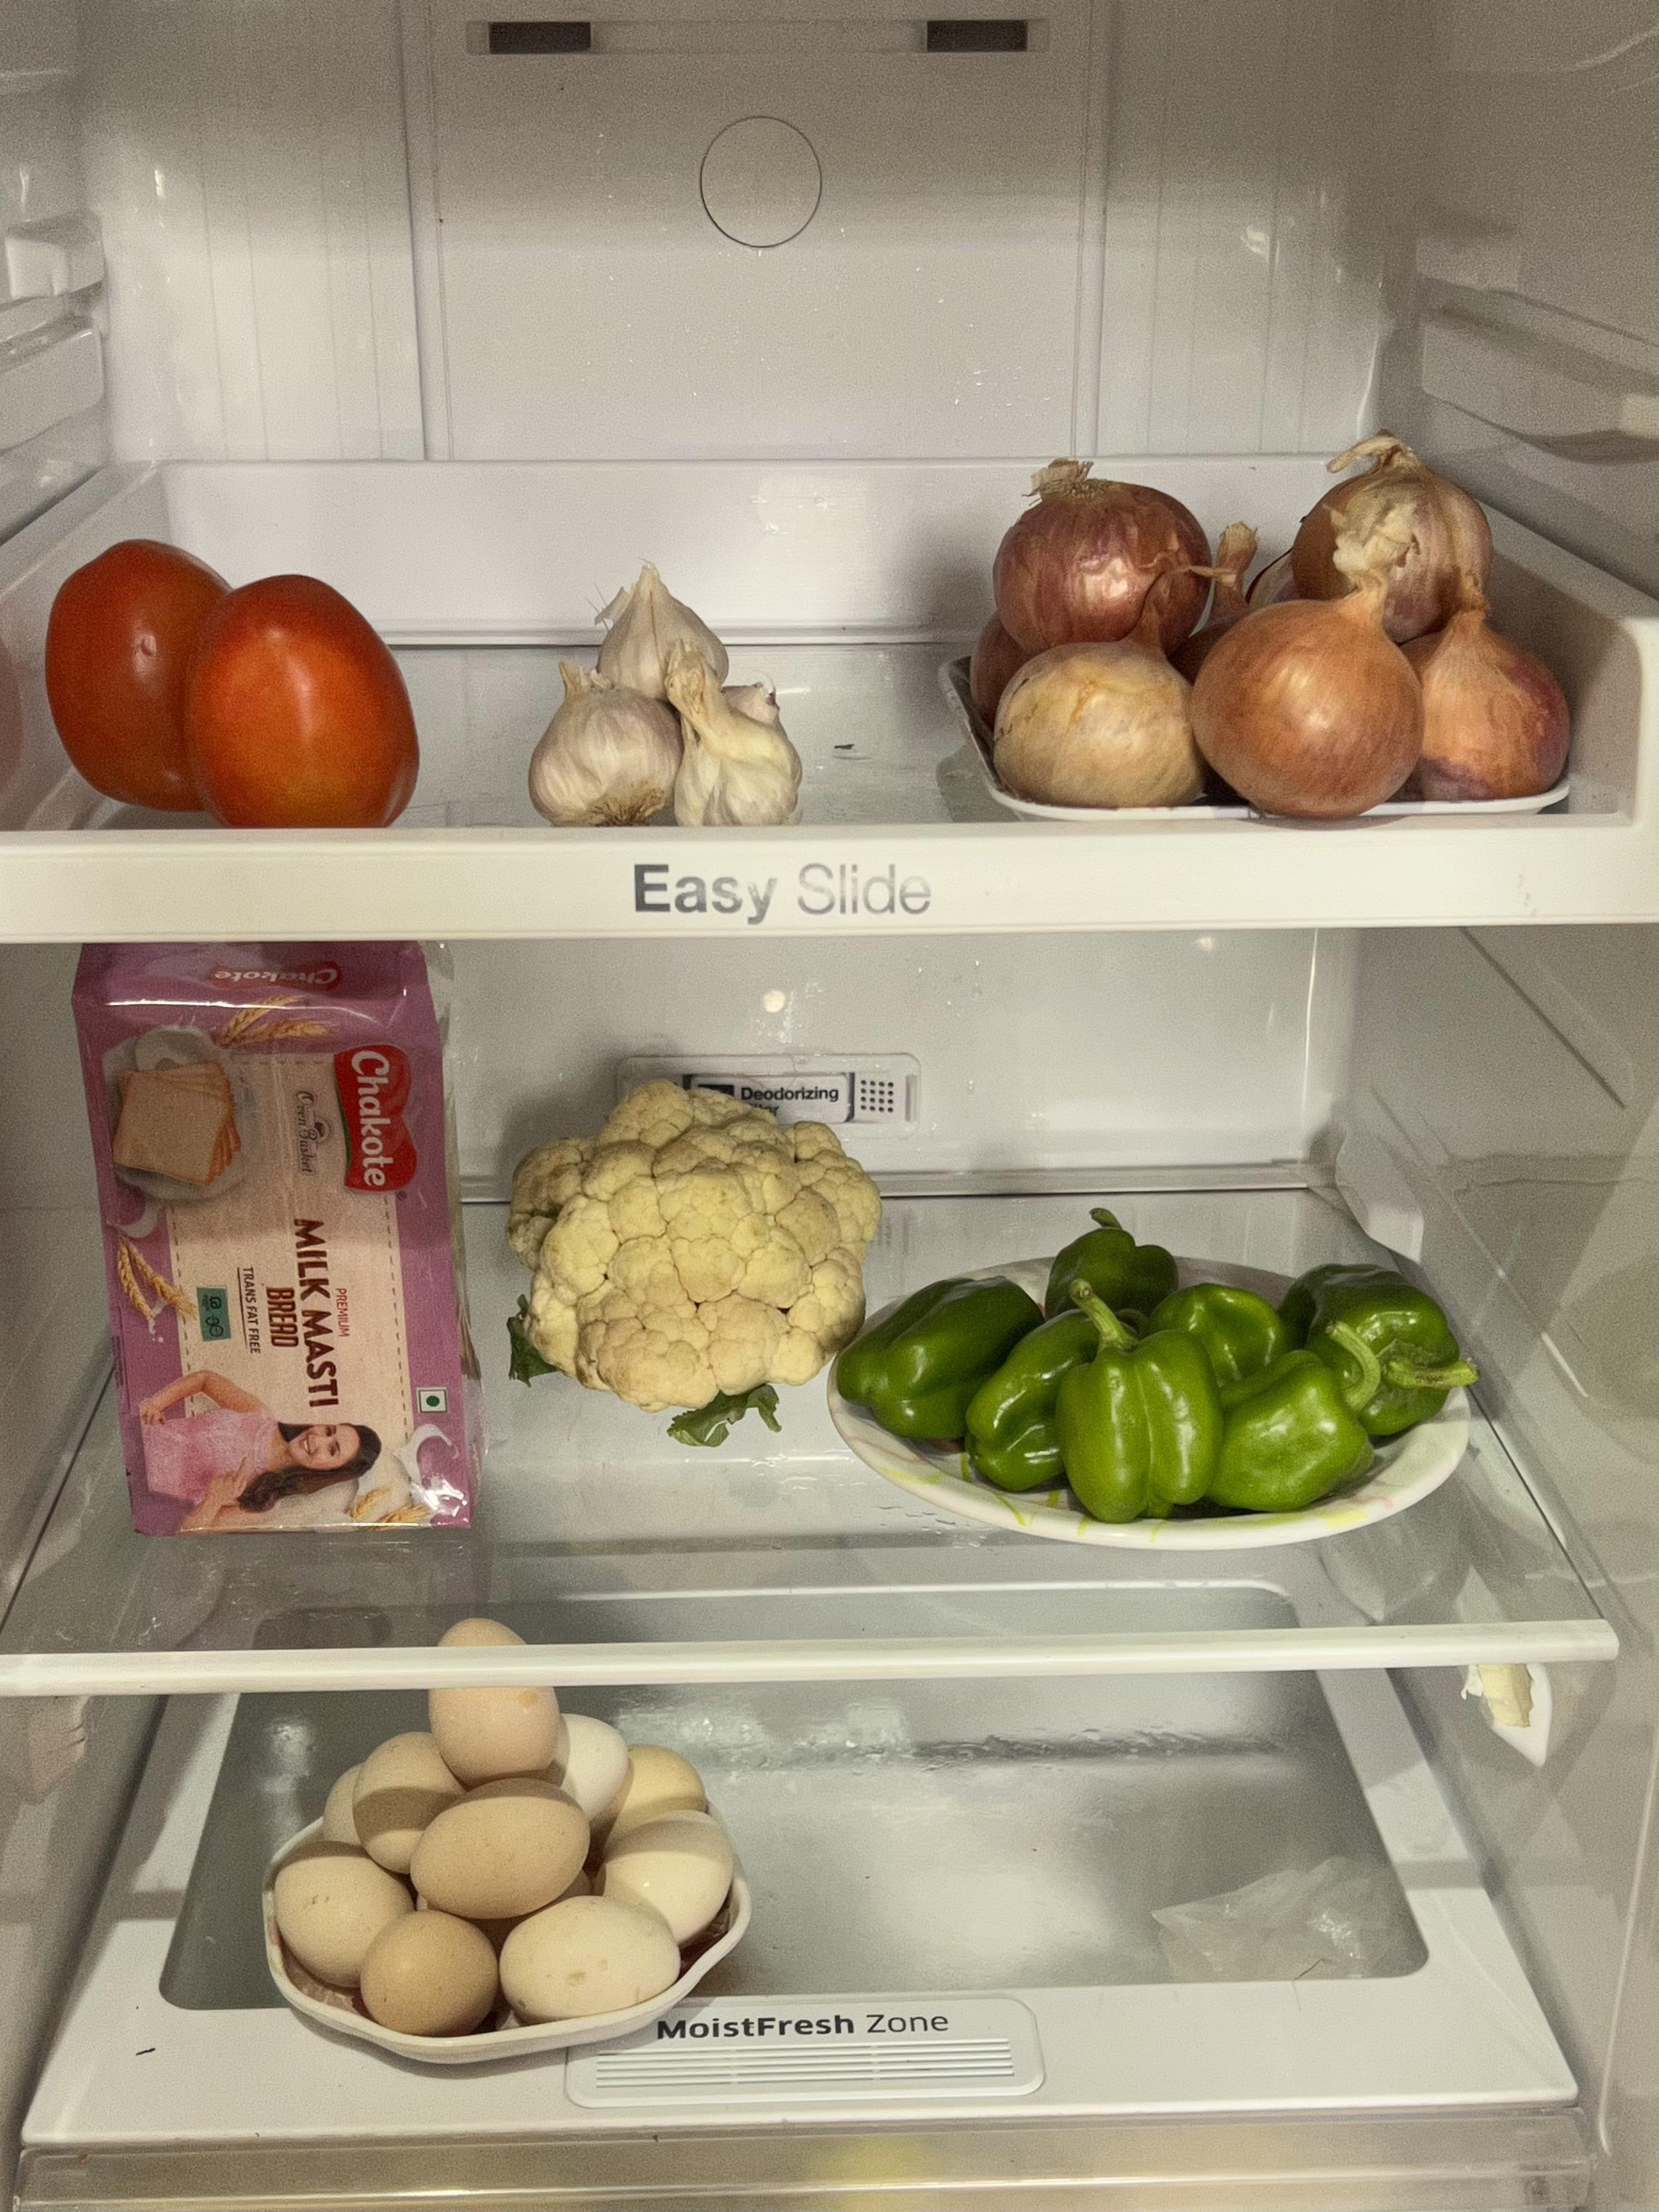bread: (68, 948, 479, 1536)
capsicum: (863, 1219, 1471, 1507)
cauliflower: (523, 1076, 852, 1399)
egg: (274, 1691, 728, 2036)
garlic: (523, 545, 793, 824)
onion: (960, 448, 1575, 805)
tomato: (51, 542, 427, 838)
